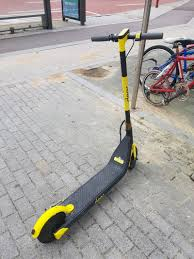kick_board: (30, 28, 163, 242)
kick_handler: (92, 27, 163, 44)
kick_neck: (119, 50, 131, 134)
kick_wheel: (31, 211, 66, 241), (126, 144, 139, 170)
